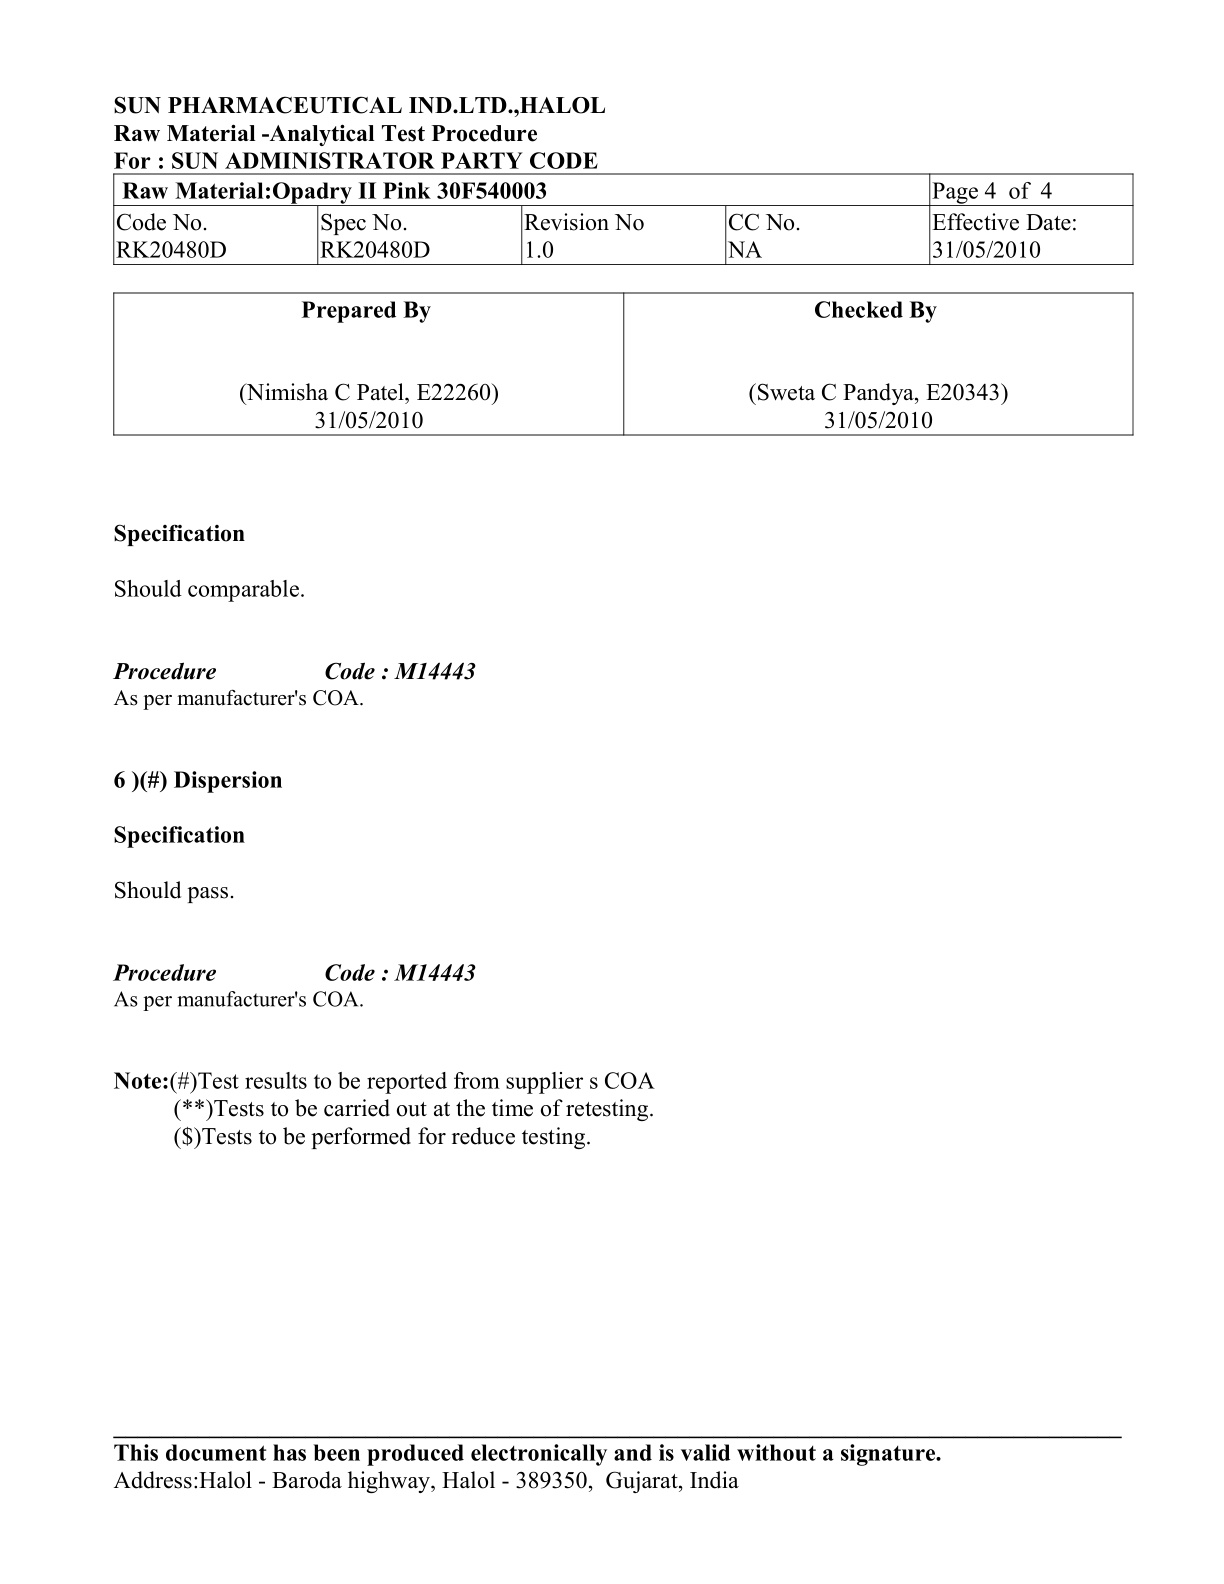merged_cells: (112, 172, 1134, 266)
partial_lined: (112, 292, 1134, 437)
